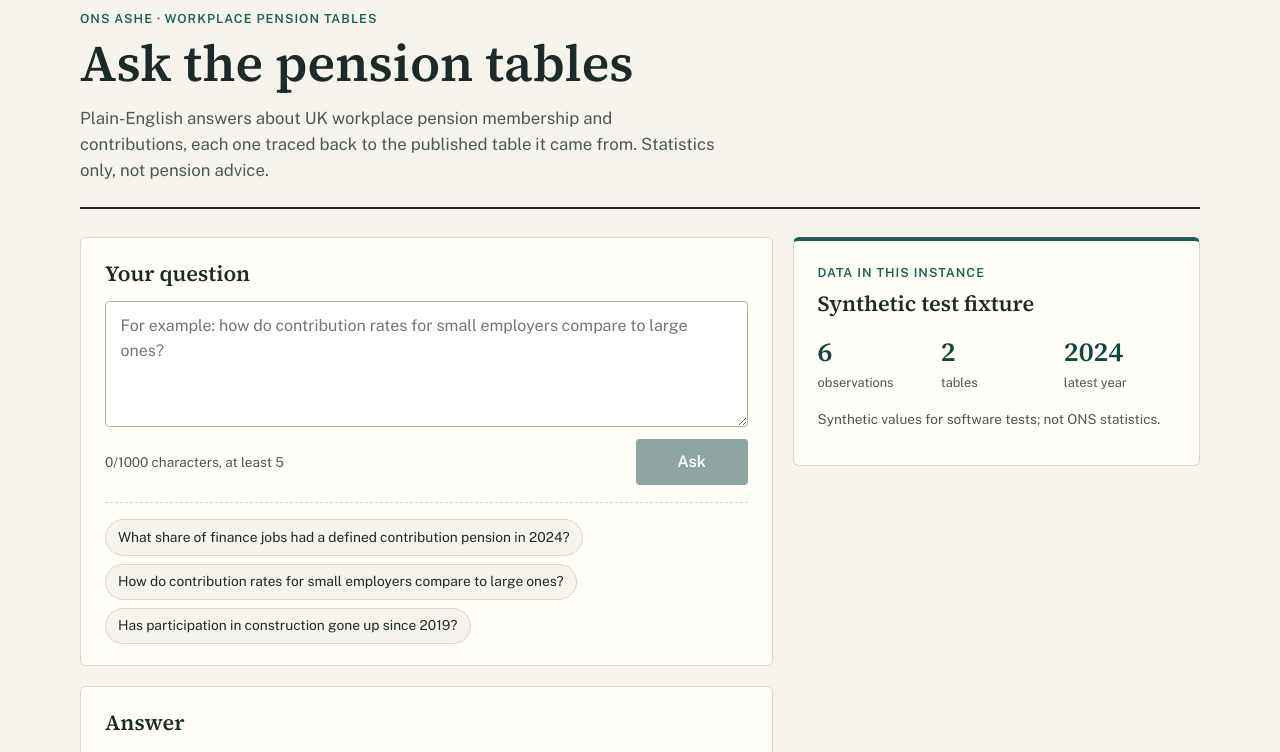
Test: asking a question › shows the API error detail instead of an answer
The image size is (1280, 752).
Expected: the heading "Synthetic test fixture" is shown, [818,289,1034,318]
Replace the text in the text box named "Question about workplace pensions" with "What is the finance rate?". click: (426, 364)
box: [105,300,748,427]
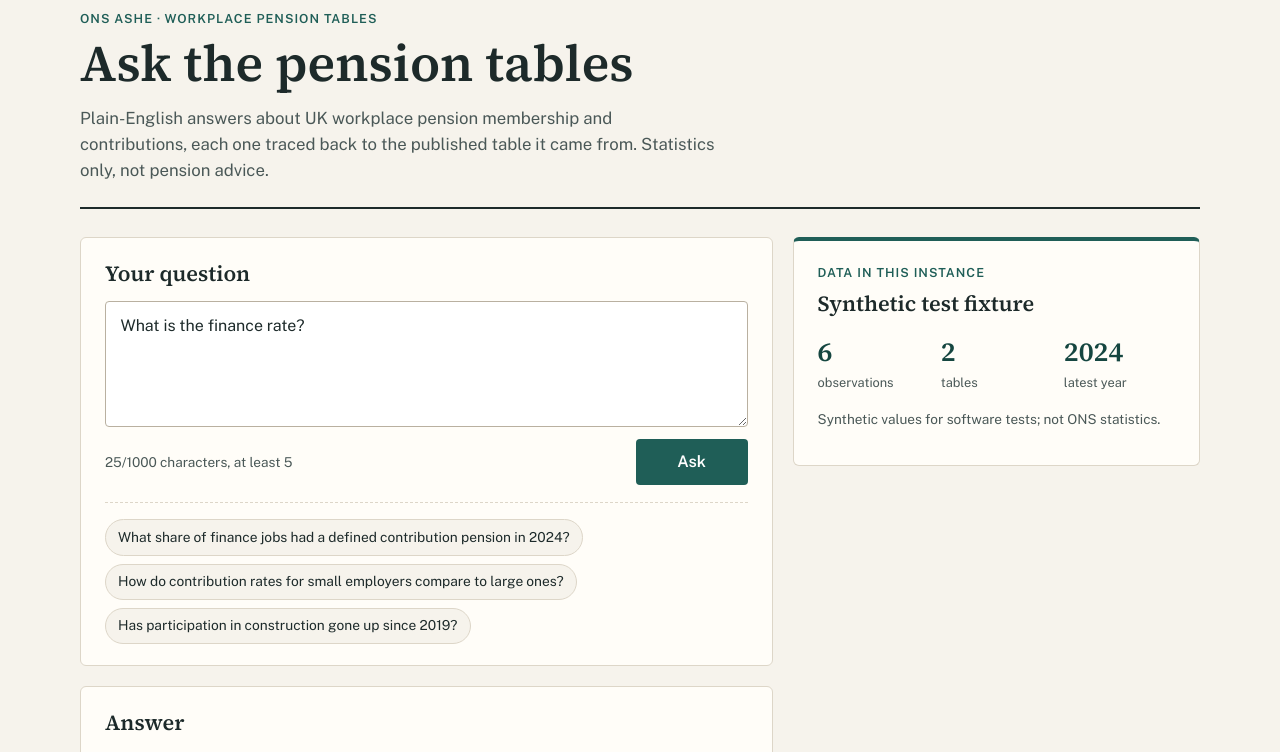
Click the button "Ask". click: (692, 462)
box: [636,439,748,485]
(page scrolled)
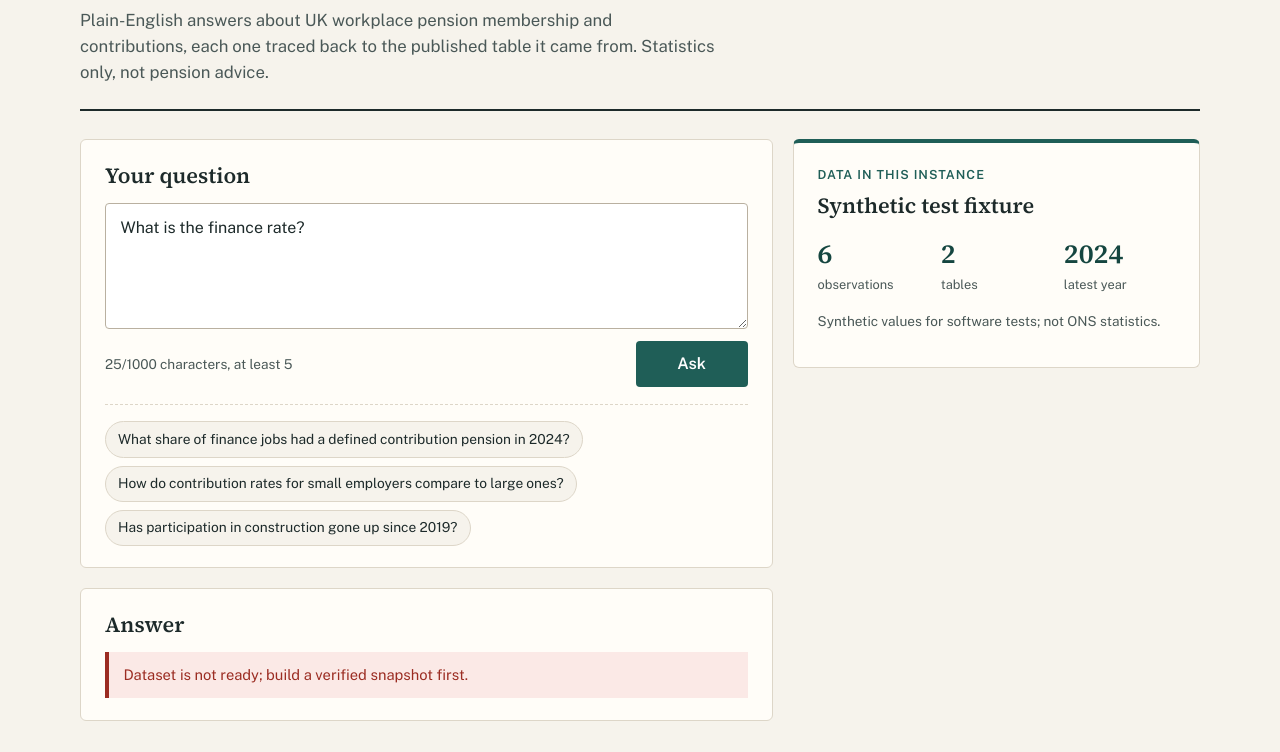
Result: the message shows "build a verified snapshot" at [123,666,468,682]
